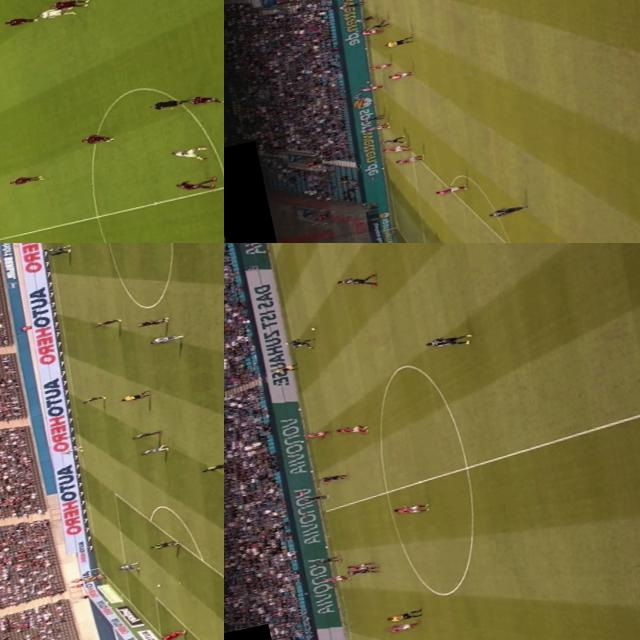ball: (337, 2, 347, 11), (153, 582, 163, 588), (308, 325, 318, 331)
player: (424, 329, 476, 353), (335, 270, 381, 294), (170, 142, 210, 166), (172, 172, 215, 194), (485, 202, 530, 221), (391, 498, 431, 518), (430, 180, 468, 200), (284, 334, 316, 353), (44, 0, 86, 14), (374, 140, 410, 156), (386, 618, 424, 633), (8, 171, 45, 186), (187, 91, 219, 108), (301, 426, 334, 442), (0, 12, 32, 28), (336, 421, 368, 437), (38, 6, 74, 20), (346, 563, 382, 577), (312, 552, 342, 568), (195, 458, 224, 474), (317, 470, 350, 484), (137, 443, 172, 456), (82, 131, 114, 145), (346, 558, 374, 574), (364, 17, 392, 32), (360, 111, 390, 125), (377, 132, 406, 146), (394, 152, 423, 166), (114, 559, 143, 573), (364, 120, 392, 134), (137, 316, 168, 328), (302, 490, 330, 503), (90, 314, 120, 326), (151, 332, 181, 344), (158, 628, 188, 640), (147, 538, 176, 550), (321, 571, 350, 583), (39, 243, 71, 253), (387, 68, 413, 80), (359, 80, 383, 93), (365, 60, 393, 71), (349, 12, 374, 24), (131, 428, 160, 438), (60, 443, 86, 454), (80, 394, 102, 406), (358, 25, 382, 35), (344, 0, 367, 8), (48, 248, 69, 256)
